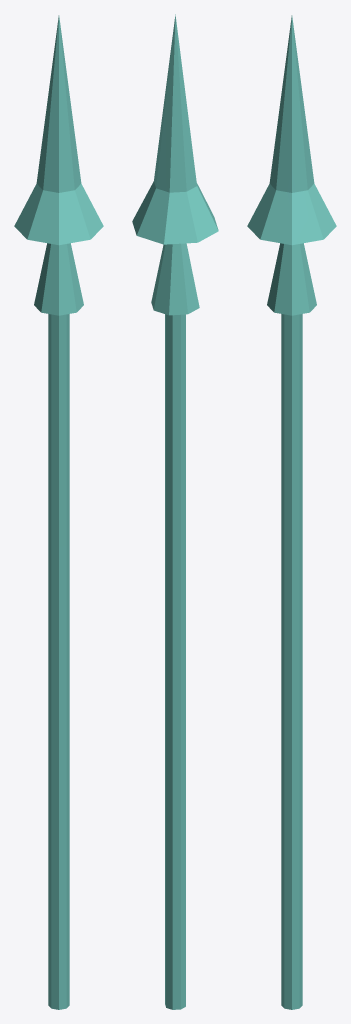
Rendered from SingleWeapon.fbx.
3 renders of one model, left to right at view 1: azimuth 90°, elevation 25°; view 2: azimuth 210°, elevation 25°; view 3: azimuth 270°, elevation 25°, orthographic.
Visible parts, largest first — view 1: Weapon; view 2: Weapon; view 3: Weapon.
Part boxes in pixels (x1,y1,x2,y2): Weapon: [14, 15, 103, 1009]; Weapon: [132, 14, 218, 1009]; Weapon: [247, 15, 336, 1009].
Bounding box in the file's own units: 8.32 × 102 × 8.32.
